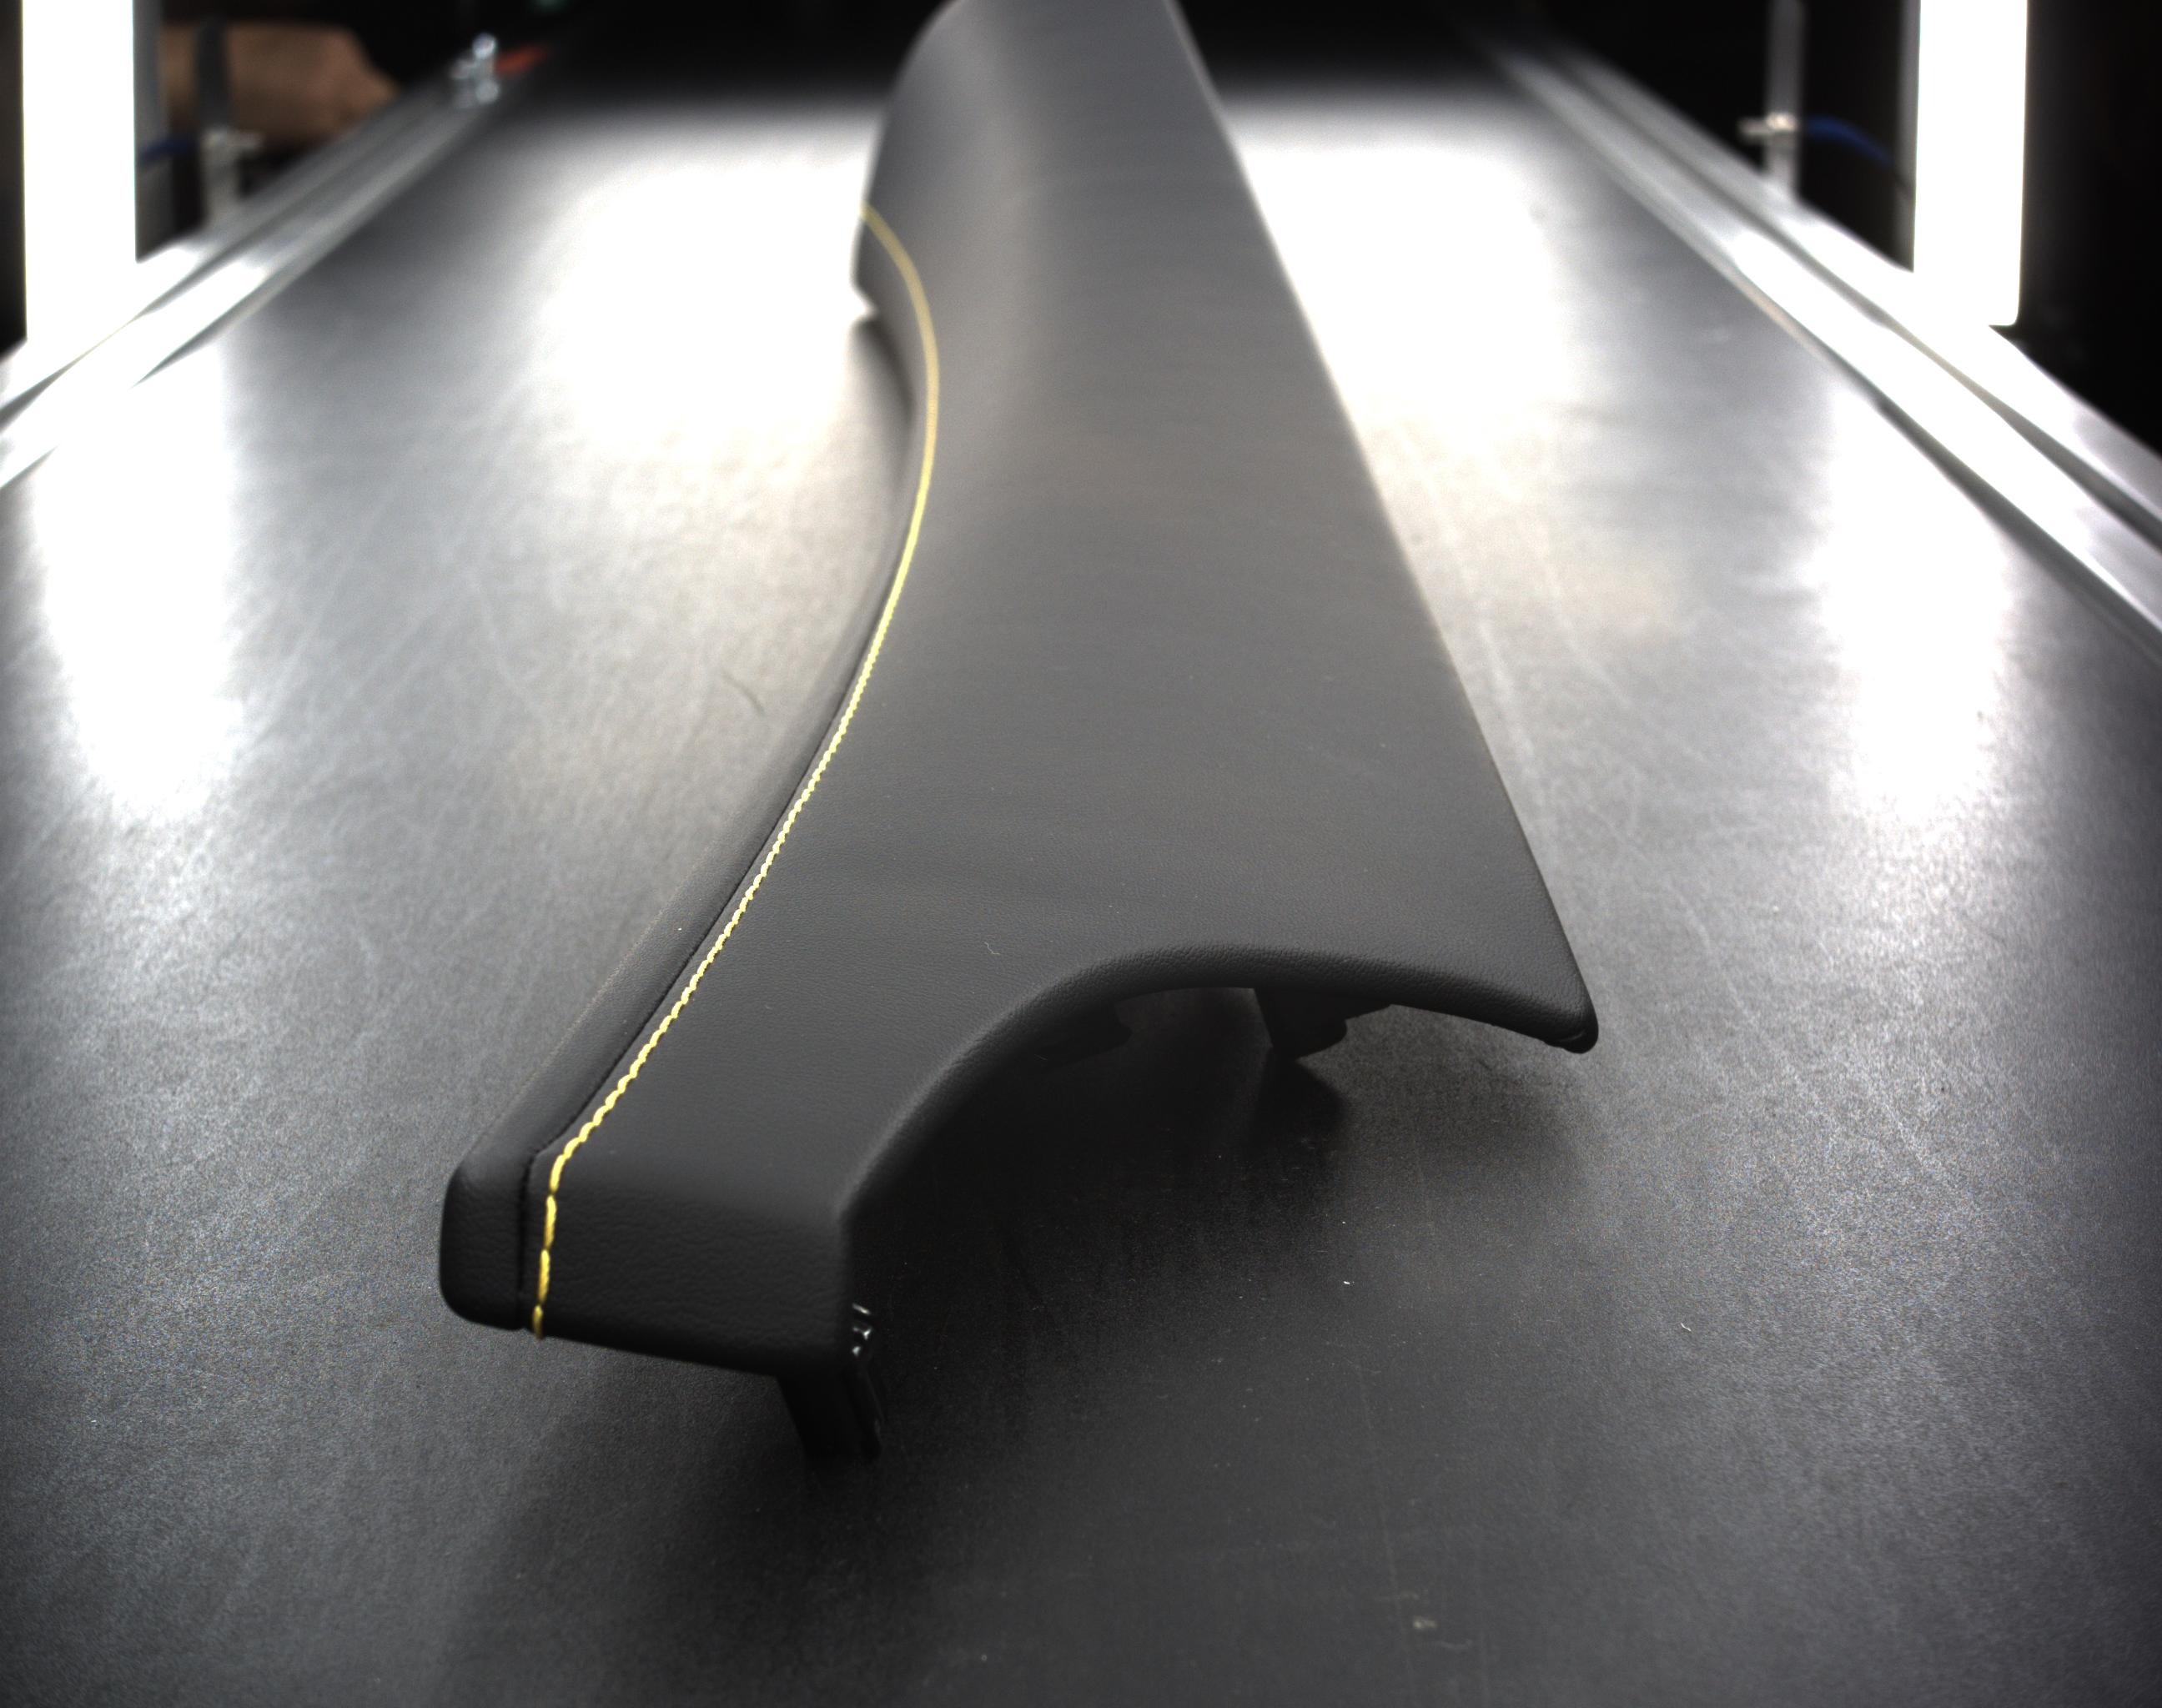vline: (535, 1248, 555, 1304), (540, 1192, 556, 1246), (530, 1306, 544, 1343)
